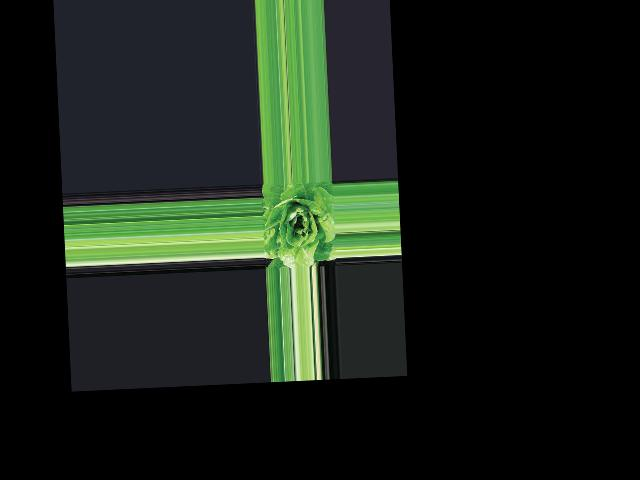lettuce: (260, 182, 334, 265)
